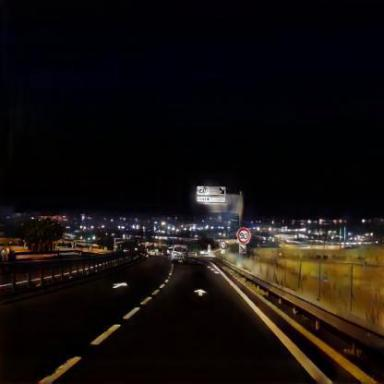Speed_limit_90: (237, 228, 251, 244)
